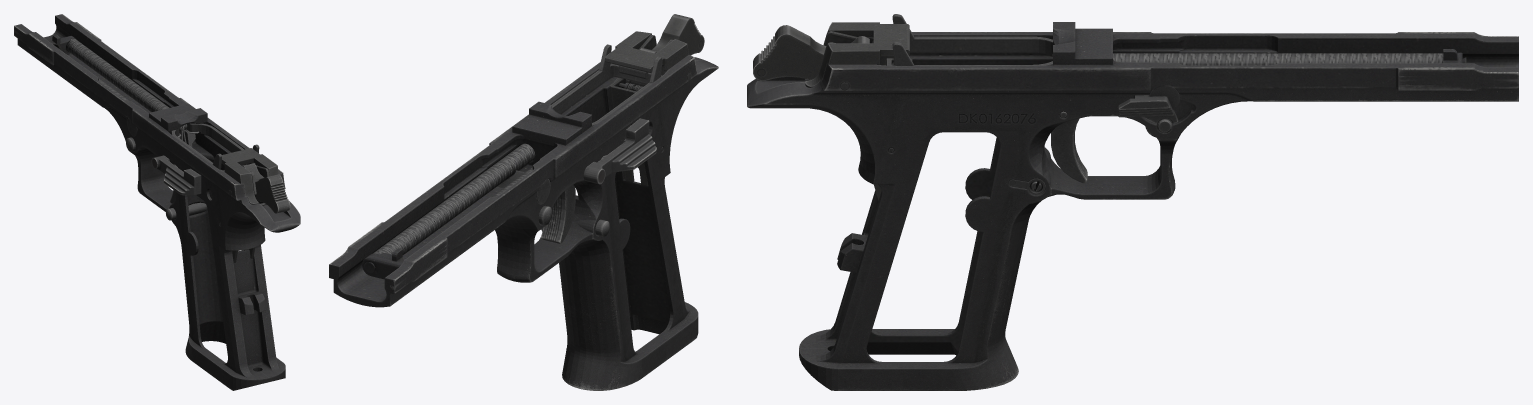
3 renders of one model, left to right at view 1: azimuth 30°, elevation 25°; view 2: azimuth 150°, elevation 25°; view 3: azimuth 270°, elevation 25°, orthographic. The views are drawn at different scales.
Visible parts, largest first — view 1: TW_668fe5a998b5ad715703ddd6_PZ_Import; view 2: TW_668fe5a998b5ad715703ddd6_PZ_Import; view 3: TW_668fe5a998b5ad715703ddd6_PZ_Import.
Boxes of the visible parts, <box> form: TW_668fe5a998b5ad715703ddd6_PZ_Import: <box>14,14,300,390</box>; TW_668fe5a998b5ad715703ddd6_PZ_Import: <box>329,14,718,390</box>; TW_668fe5a998b5ad715703ddd6_PZ_Import: <box>747,14,1518,390</box>.
Bounding box in the file's own units: 0.0214 × 0.1445 × 0.0706.
1 material, 1 textured.
